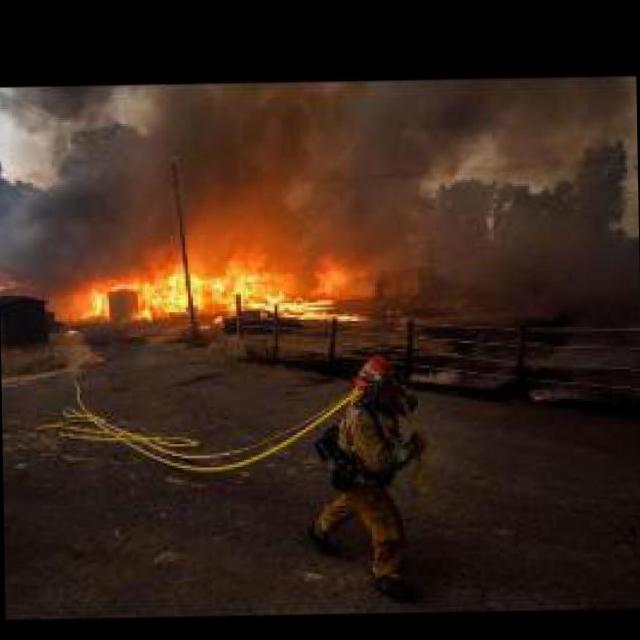fire: (45, 227, 382, 341)
smoke: (0, 73, 639, 262)
